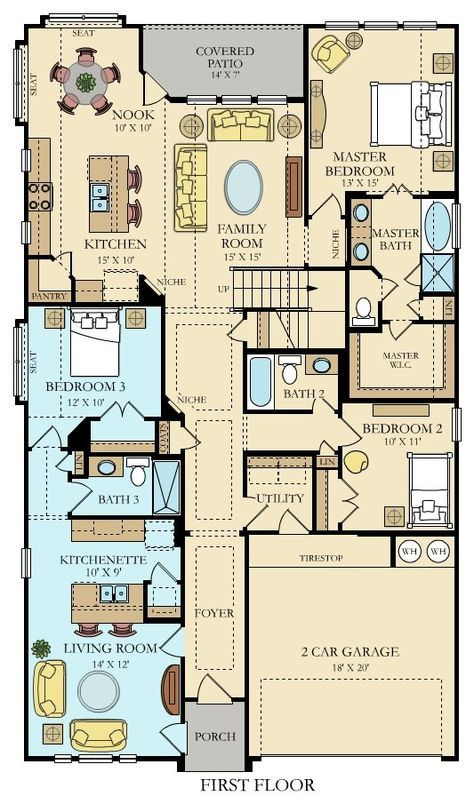door: (339, 477, 367, 517), (155, 719, 184, 754), (274, 504, 311, 528), (193, 669, 230, 693), (384, 177, 411, 209), (155, 624, 180, 658), (309, 189, 344, 212), (101, 397, 143, 416), (137, 74, 161, 107), (221, 307, 245, 340), (342, 413, 364, 449), (72, 477, 95, 511), (32, 422, 65, 444), (147, 557, 179, 579), (57, 245, 81, 273), (384, 323, 418, 342), (186, 423, 205, 454), (402, 260, 419, 290), (383, 273, 400, 301), (402, 296, 419, 320), (54, 452, 69, 475), (316, 436, 337, 450)
